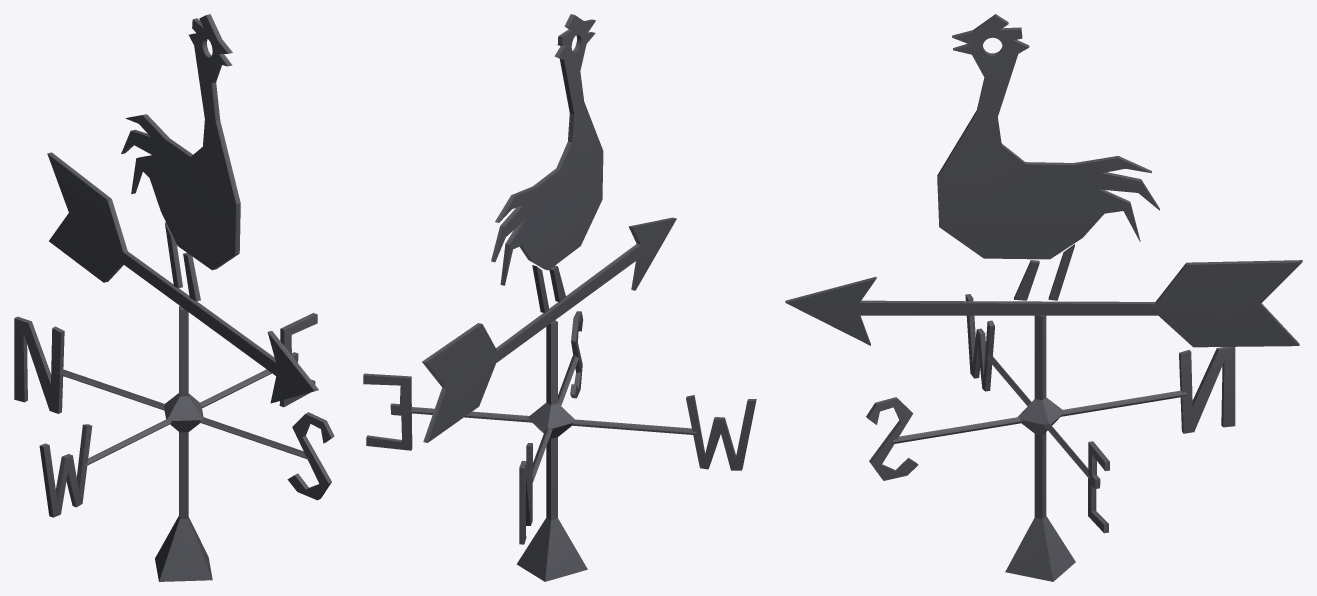
The model's file is vane.glb.
The picture shows the model from 3 angles, left to right: view 1: azimuth 30°, elevation 25°; view 2: azimuth 150°, elevation 25°; view 3: azimuth 270°, elevation 25°; orthographic projection. The views are drawn at different scales.
Parts seen in each view (by area): view 1: Box025; view 2: Box025; view 3: Box025.
Boxes of the visible parts, x1=… form: Box025: x1=14, y1=14, x2=334, y2=581; Box025: x1=363, y1=14, x2=756, y2=581; Box025: x1=785, y1=14, x2=1302, y2=581.
Size of the model in its own units: 1.07 by 1.68 by 1.43.
Materials: 1 (1 with a texture image).
